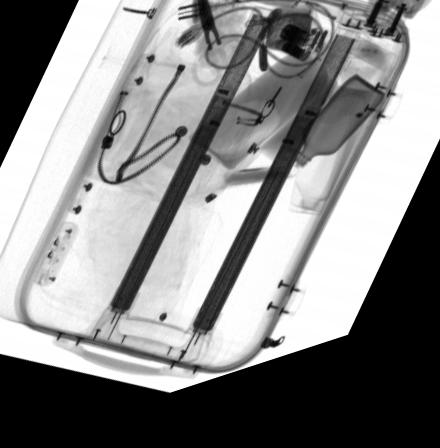Scissors: (189, 0, 251, 99)
